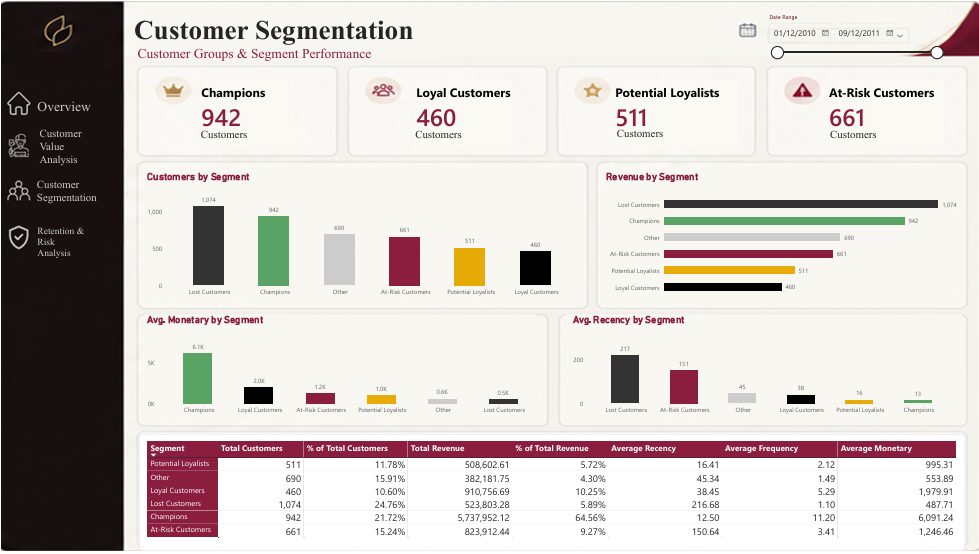

Layout of this report page (visuals, bound fields, positions):
{"tool":"powerbi","page":{"name":"Customer Segmentation","canvas":[1920,1080],"ordinal":2},"visuals":[{"type":"textbox","box":[75.1,248.1,137.6,79.2],"z":0},{"type":"textbox","box":[69.8,348.9,137.6,70.9],"z":1000},{"type":"textbox","box":[70.9,439.9,125.1,75.1],"z":2000},{"type":"textbox","box":[70.9,191.8,125.1,35.4],"z":3000},{"type":"cardVisual","fields":{"Data":["KPI Cards.Champions"]},"box":[377.4,143.9,252.3,133.4],"z":4000},{"type":"cardVisual","fields":{"Data":["KPI Cards.Loyal Customers"]},"box":[799.2,143.9,221,133.4],"z":5000},{"type":"cardVisual","fields":{"Data":["KPI Cards.At-Risk Customers"]},"box":[1609.6,143.9,264.8,133.4],"z":6000},{"type":"cardVisual","fields":{"Data":["KPI Cards.Potential Loyalists"]},"box":[1189.8,143.9,250.2,133.4],"z":7000},{"type":"textbox","box":[392,250.2,145.9,27.1],"z":8000},{"type":"textbox","box":[813.1,250.2,145.9,27.1],"z":9000},{"type":"textbox","box":[1209.3,248.1,145.9,27.1],"z":10000},{"type":"textbox","box":[1628.3,250.2,145.9,27.1],"z":11000},{"type":"slicer","fields":{"Values":["transactions_clean.InvoiceDate"]},"box":[1501.2,25,352.4,104.2],"z":12000},{"type":"textbox","box":[260.6,25,736,102.2],"z":13000},{"type":"clusteredColumnChart","title":"Customers by Segment","fields":{"Category":["customer_rfm_final.Segment"],"Y":["KPI Cards.Total Customers"]},"box":[271,319,879.8,281.5],"z":14000},{"type":"clusteredBarChart","title":"Revenue by Segment","fields":{"Category":["customer_rfm_final.Segment"],"Y":["KPI Cards.Total Customers"]},"box":[1171.7,319,721.4,281.5],"z":15000},{"type":"clusteredColumnChart","title":"Avg. Monetary by Segment","fields":{"Category":["customer_rfm_final.Segment"],"Y":["KPI Cards.Average Monetary"]},"box":[271,600.5,811,231.4],"z":16000},{"type":"clusteredColumnChart","title":"Avg. Recency by Segment","fields":{"Category":["customer_rfm_final.Segment"],"Y":["KPI Cards.Average Recency"]},"box":[1107.1,600.5,786,231.4],"z":17000},{"type":"pivotTable","title":"Segment Performance Matrix","fields":{"Rows":["customer_rfm_final.Segment"],"Values":["KPI Cards.Total Customers","KPI Cards.% of Total Customers","KPI Cards.Total Revenue","KPI Cards.% of Total Revenue","KPI Cards.Average Recency","KPI Cards.Average Frequency","KPI Cards.Average Monetary"]},"box":[271,850.7,1622.1,229.3],"z":18000},{"type":"shape","box":[70.9,185.6,131.4,48],"z":19000},{"type":"shape","box":[64.6,253.7,131.4,75.1],"z":20000},{"type":"shape","box":[64.6,439.9,131.4,75.1],"z":21000}]}

Visuals, with their boxes on the page's 1920x1080 design canvas (x1, y1, x2, y2). These are canvas units, not pixel positions in the 979x554 screenshot, which may show the page scaled, cropped or inside an application window:
textbox: x1=75 y1=248 x2=213 y2=327
textbox: x1=70 y1=349 x2=207 y2=420
textbox: x1=71 y1=440 x2=196 y2=515
textbox: x1=71 y1=192 x2=196 y2=227
cardVisual - KPI Cards.Champions: x1=377 y1=144 x2=630 y2=277
cardVisual - KPI Cards.Loyal Customers: x1=799 y1=144 x2=1020 y2=277
cardVisual - KPI Cards.At-Risk Customers: x1=1610 y1=144 x2=1874 y2=277
cardVisual - KPI Cards.Potential Loyalists: x1=1190 y1=144 x2=1440 y2=277
textbox: x1=392 y1=250 x2=538 y2=277
textbox: x1=813 y1=250 x2=959 y2=277
textbox: x1=1209 y1=248 x2=1355 y2=275
textbox: x1=1628 y1=250 x2=1774 y2=277
slicer - transactions_clean.InvoiceDate: x1=1501 y1=25 x2=1854 y2=129
textbox: x1=261 y1=25 x2=997 y2=127
"Customers by Segment" clusteredColumnChart: x1=271 y1=319 x2=1151 y2=600
"Revenue by Segment" clusteredBarChart: x1=1172 y1=319 x2=1893 y2=600
"Avg. Monetary by Segment" clusteredColumnChart: x1=271 y1=600 x2=1082 y2=832
"Avg. Recency by Segment" clusteredColumnChart: x1=1107 y1=600 x2=1893 y2=832
"Segment Performance Matrix" pivotTable: x1=271 y1=851 x2=1893 y2=1080
shape: x1=71 y1=186 x2=202 y2=234
shape: x1=65 y1=254 x2=196 y2=329
shape: x1=65 y1=440 x2=196 y2=515
